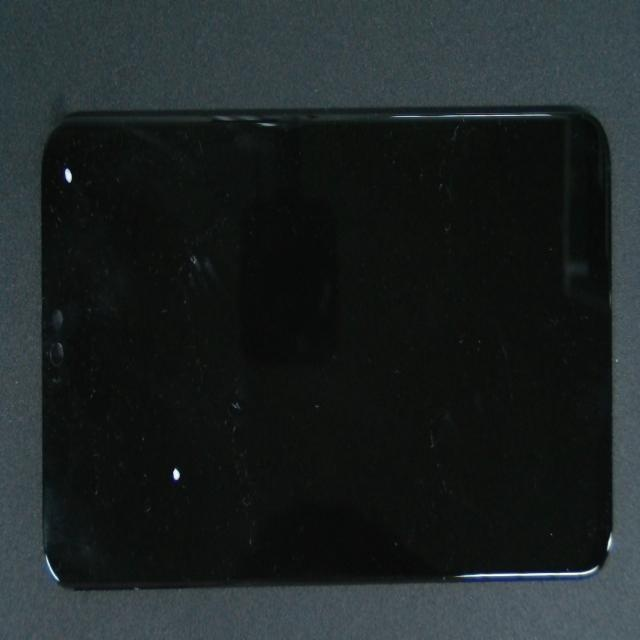stain: (88, 191, 249, 640), (47, 49, 100, 219)
